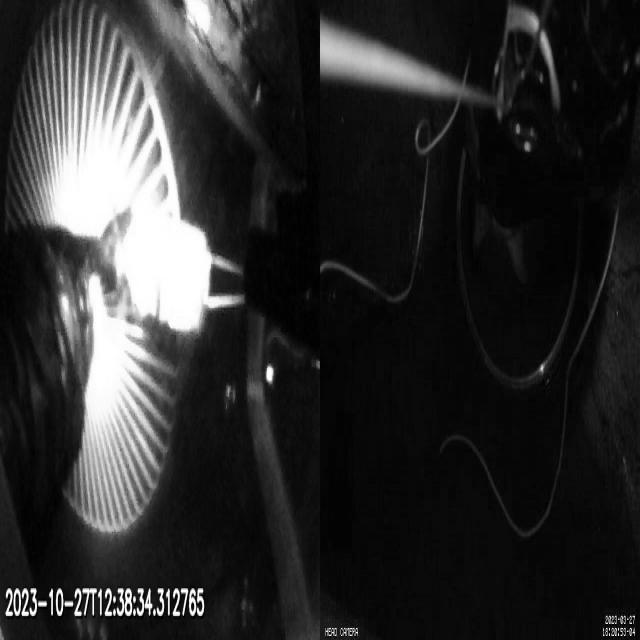head: (125, 202, 210, 334)
